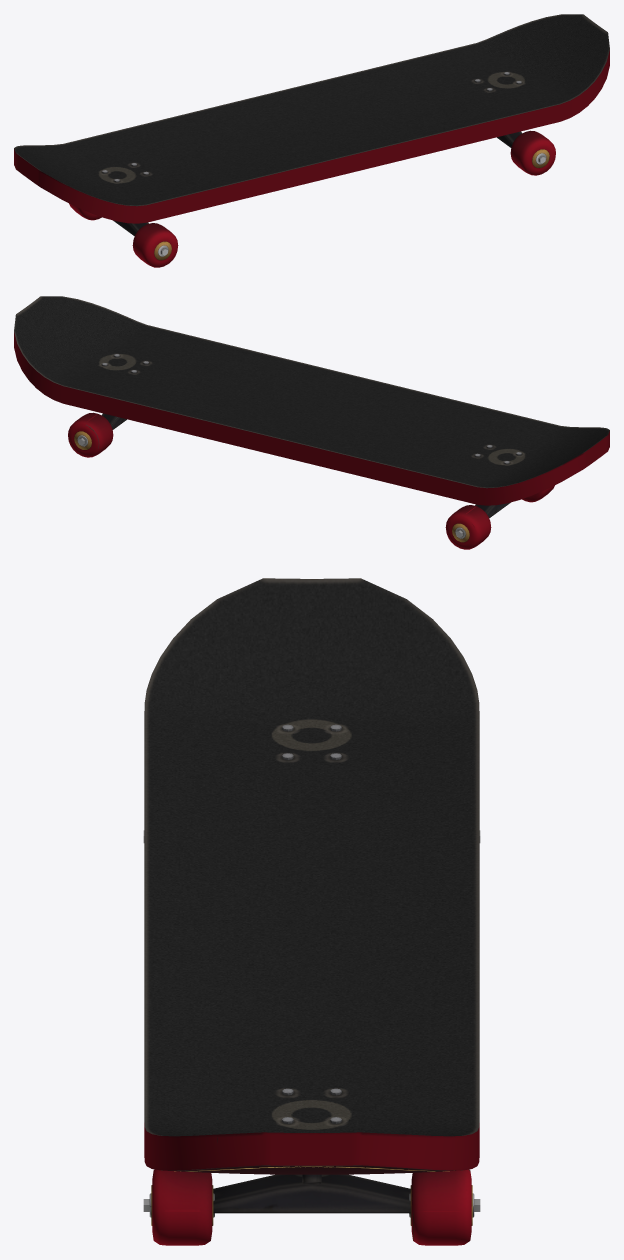
Rendered from SkateboardCrimson.fbx.
3 views of the same model, one above another, from view 1: azimuth 30°, elevation 25°; view 2: azimuth 150°, elevation 25°; view 3: azimuth 270°, elevation 25° (orthographic). The views are drawn at different scales.
Parts seen in each view (by area): view 1: SkateboardCrimson_Main, SkateboardCrimson_WheelBR, SkateboardCrimson_WheelFR; view 2: SkateboardCrimson_Main, SkateboardCrimson_WheelBL, SkateboardCrimson_WheelFL; view 3: SkateboardCrimson_Main, SkateboardCrimson_TruckF, SkateboardCrimson_WheelFL, SkateboardCrimson_WheelFR.
Boxes of the visible parts, box(x1,y1,x2,y2) form: SkateboardCrimson_Main: box(14, 14, 609, 223); SkateboardCrimson_WheelBR: box(132, 223, 178, 267); SkateboardCrimson_WheelFR: box(510, 130, 555, 175); SkateboardCrimson_Main: box(14, 296, 609, 505); SkateboardCrimson_WheelBL: box(445, 505, 491, 549); SkateboardCrimson_WheelFL: box(68, 412, 113, 457); SkateboardCrimson_Main: box(144, 578, 479, 1174); SkateboardCrimson_TruckF: box(213, 1174, 410, 1213); SkateboardCrimson_WheelFL: box(409, 1169, 480, 1245); SkateboardCrimson_WheelFR: box(143, 1169, 214, 1245).
Bounding box in the file's own units: 544 × 92.43 × 140.
